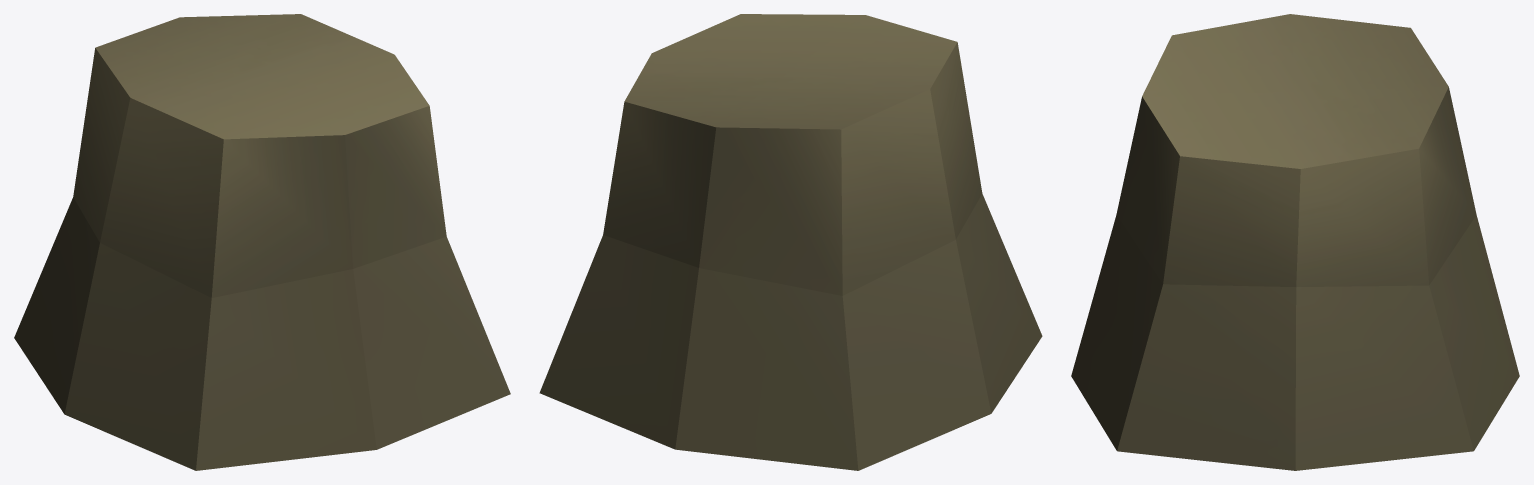
Rendered from obsTrunk_01.fbx.
3 views of the same model, side by side, from view 1: azimuth 30°, elevation 25°; view 2: azimuth 150°, elevation 25°; view 3: azimuth 270°, elevation 25° (orthographic). The views are drawn at different scales.
Visible parts, largest first — view 1: obsTrunk_01; view 2: obsTrunk_01; view 3: obsTrunk_01.
Boxes of the visible parts, box(x1,y1,x2,y2) form: obsTrunk_01: box(14, 14, 510, 470); obsTrunk_01: box(539, 14, 1042, 470); obsTrunk_01: box(1071, 14, 1519, 470).
Size of the model in its own units: 286 by 209 by 286.
Materials: 1 (1 with a texture image).
